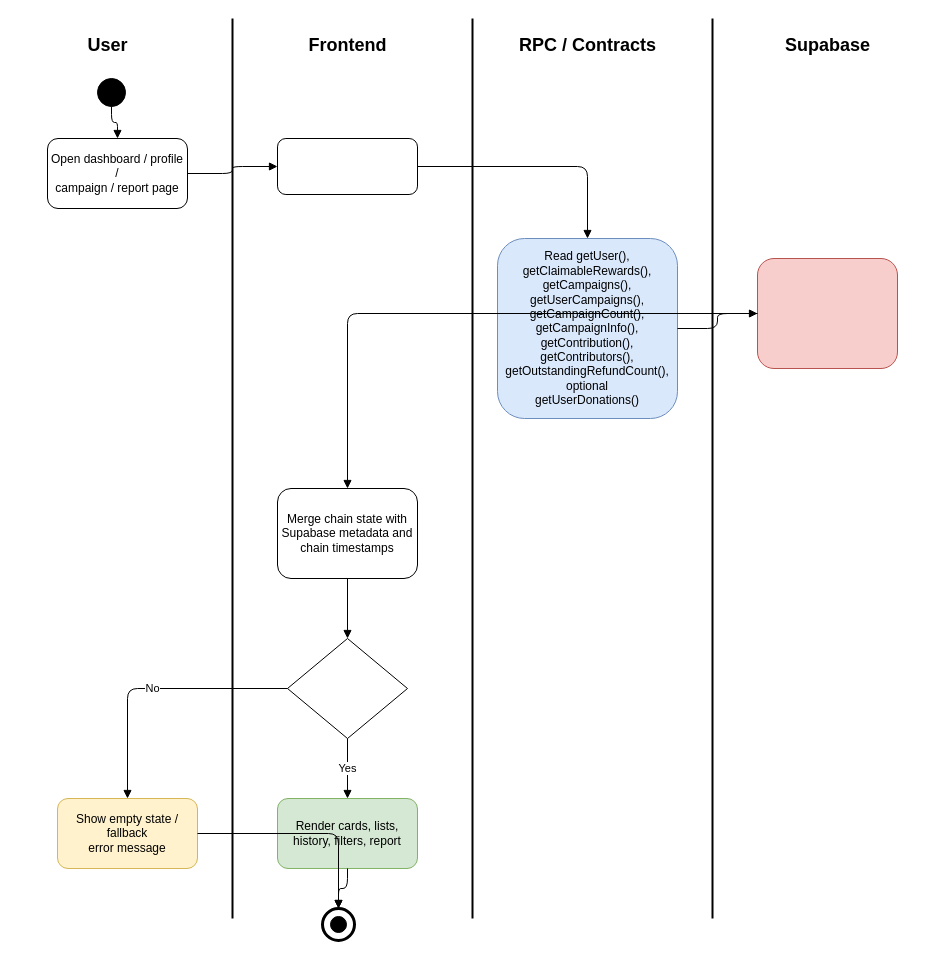
This 934x959 diagram has some shape labels left out. The centre of each missing label's shape, as x and y in pixels:
Decide required data set: [347,166]
Enough data to render?: [347,688]
Read users, campaigns, donations, refunds rows and image URLs: [827,313]
